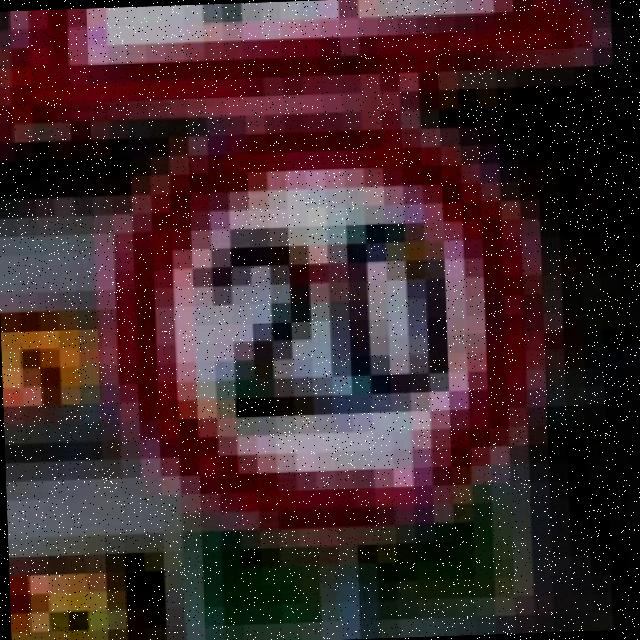Ograniczenie predkosci do 20: (89, 85, 571, 554)
